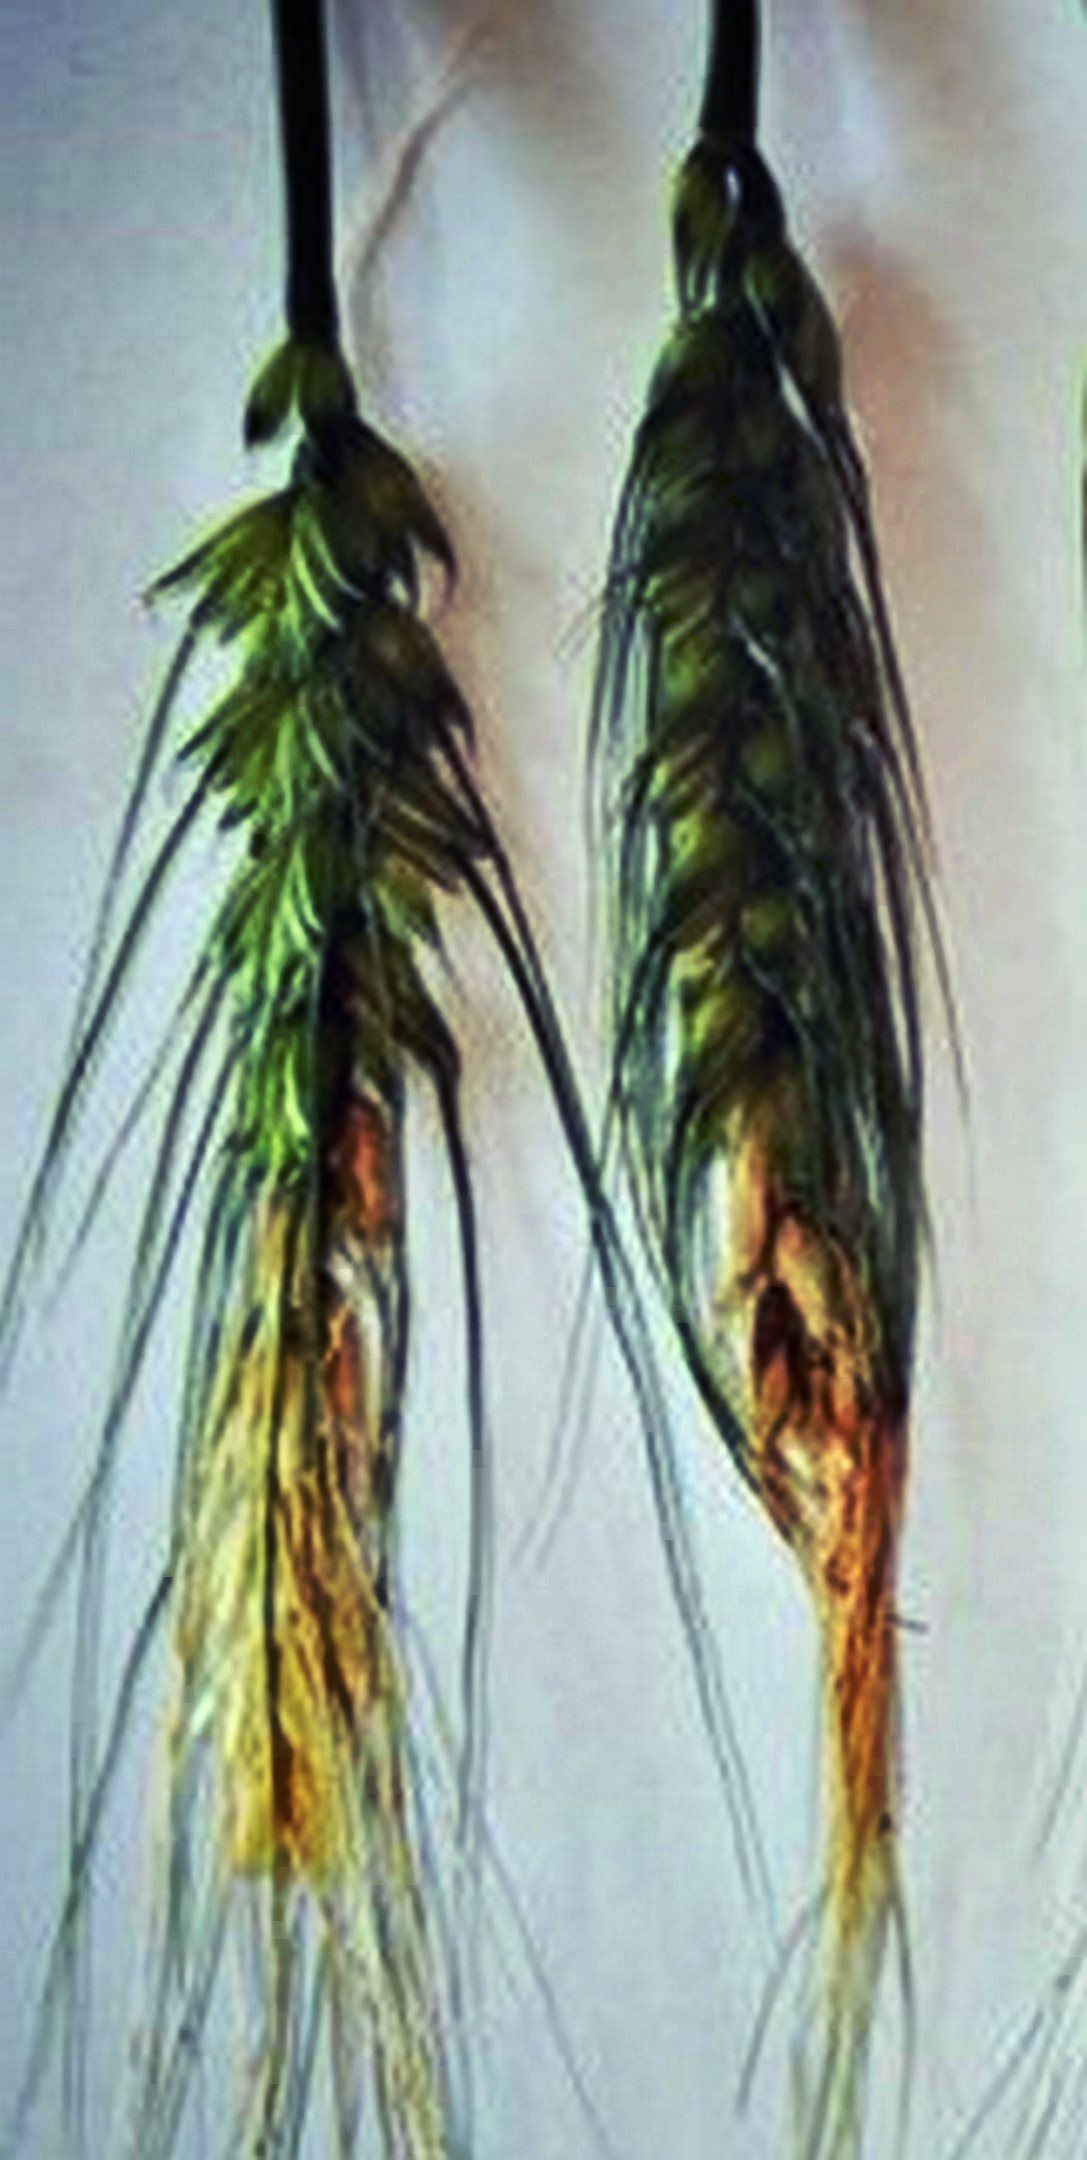Wheat scab: (537, 250, 965, 1887), (92, 349, 481, 1928)
